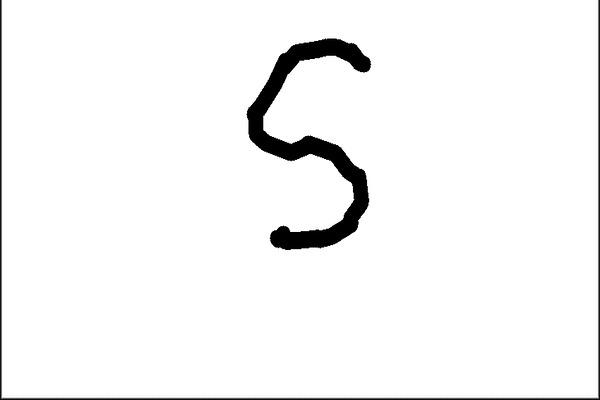S: (241, 32, 381, 251)
